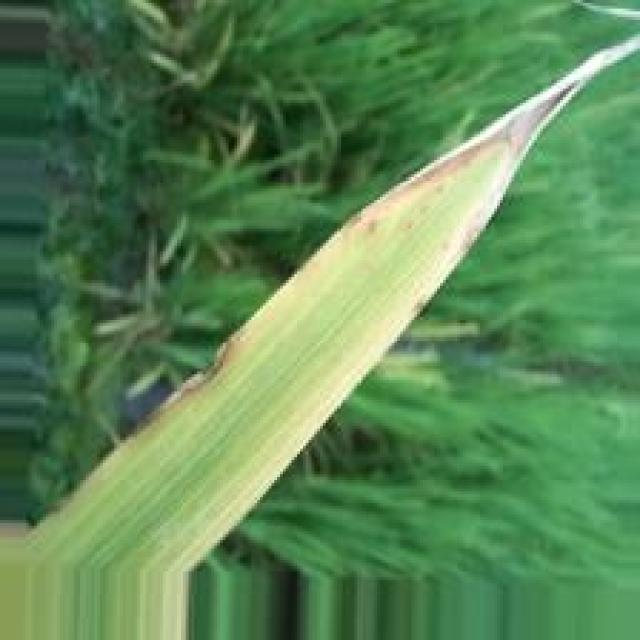Leaf_Scald: (321, 75, 586, 387), (137, 335, 235, 428)
